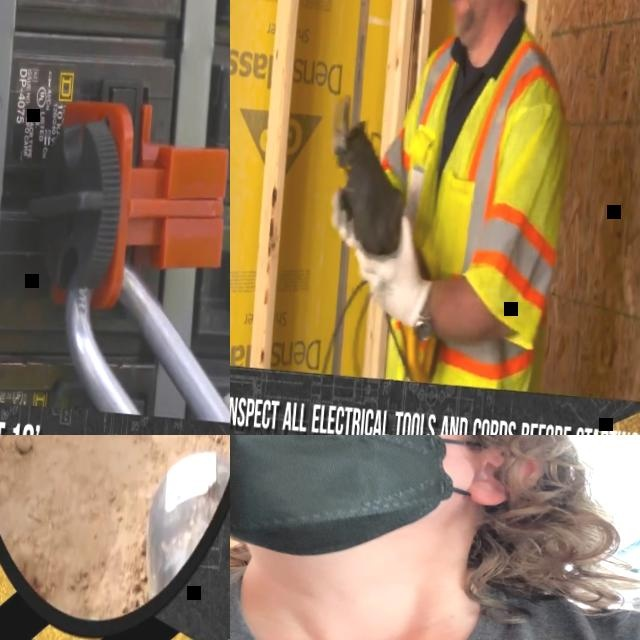Mask: (230, 435, 491, 570)
NO-Mask: (446, 0, 506, 45)
NO-Safety Vest: (230, 558, 640, 640)
Person: (315, 0, 592, 390), (230, 435, 640, 640)
Safety Vest: (360, 12, 576, 393)
